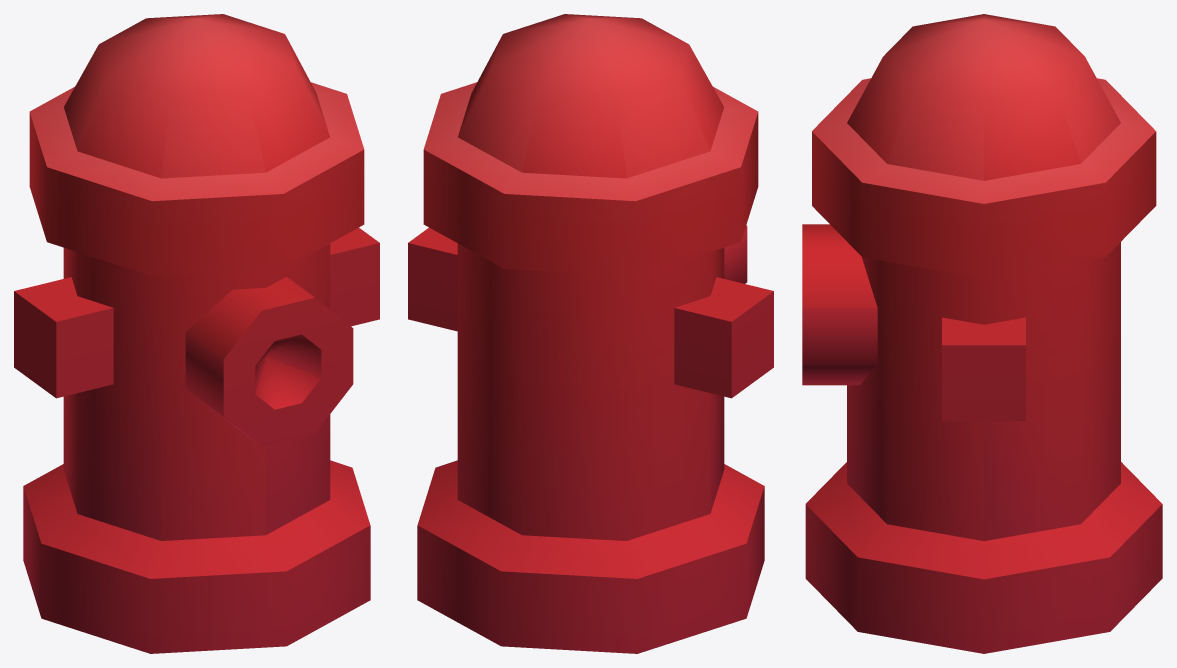
File: Fire Hydrant.glb
3 renders of one model, left to right at view 1: azimuth 30°, elevation 25°; view 2: azimuth 150°, elevation 25°; view 3: azimuth 270°, elevation 25°, orthographic.
Parts seen in each view (by area): view 1: firehydrant; view 2: firehydrant; view 3: firehydrant.
Boxes of the visible parts, x1,y1,x2,y2 form: firehydrant: (14,14,379,653); firehydrant: (408,14,773,653); firehydrant: (802,14,1162,653).
Size of the model in its own units: 0.1355 by 0.2246 by 0.1313.
Materials: 1 (1 with a texture image).
